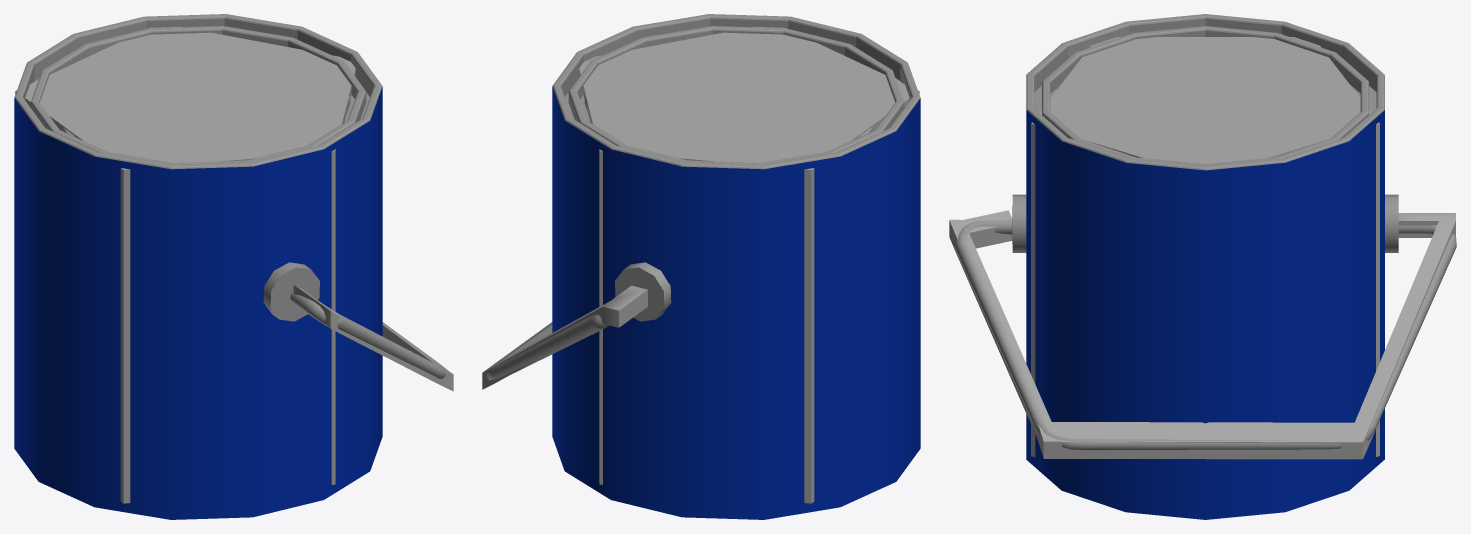
File: painCan.fbx
The picture shows the model from 3 angles, left to right: view 1: azimuth 30°, elevation 25°; view 2: azimuth 150°, elevation 25°; view 3: azimuth 270°, elevation 25°; orthographic projection.
Visible parts, largest first — view 1: paintCan, paintCan_COL, handel; view 2: paintCan, paintCan_COL, handel; view 3: paintCan, paintCan_COL, handel.
Boxes of the visible parts, box(x1,y1,x2,y2) form: paintCan: box(14, 14, 382, 519); paintCan_COL: box(15, 27, 453, 503); handel: box(263, 262, 445, 378); paintCan: box(552, 14, 920, 519); paintCan_COL: box(482, 27, 919, 503); handel: box(487, 262, 671, 380); paintCan: box(1026, 14, 1384, 519); paintCan_COL: box(949, 37, 1455, 459); handel: box(954, 194, 1456, 449).
Size of the model in its own units: 4.08 by 4.1 by 5.36.
